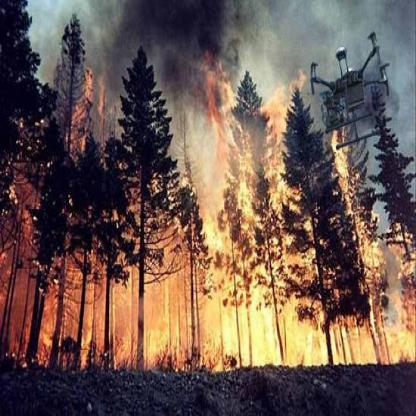fire: (5, 56, 412, 371)
smoke: (79, 1, 266, 91)
